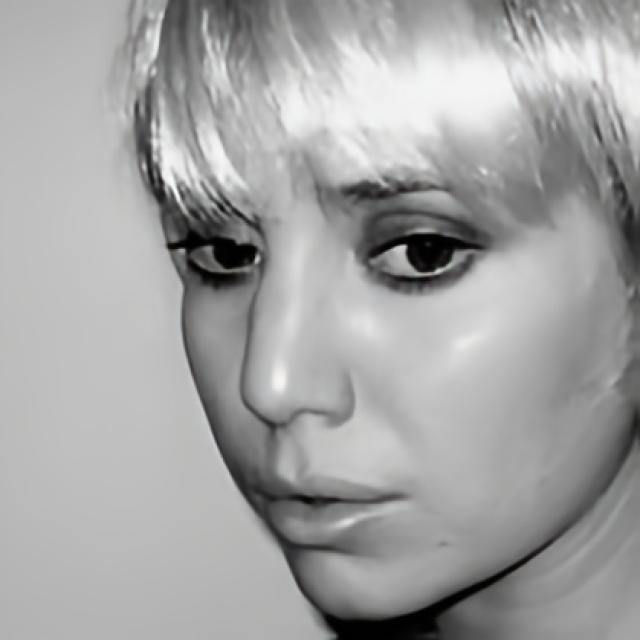sad: (156, 23, 640, 622)
